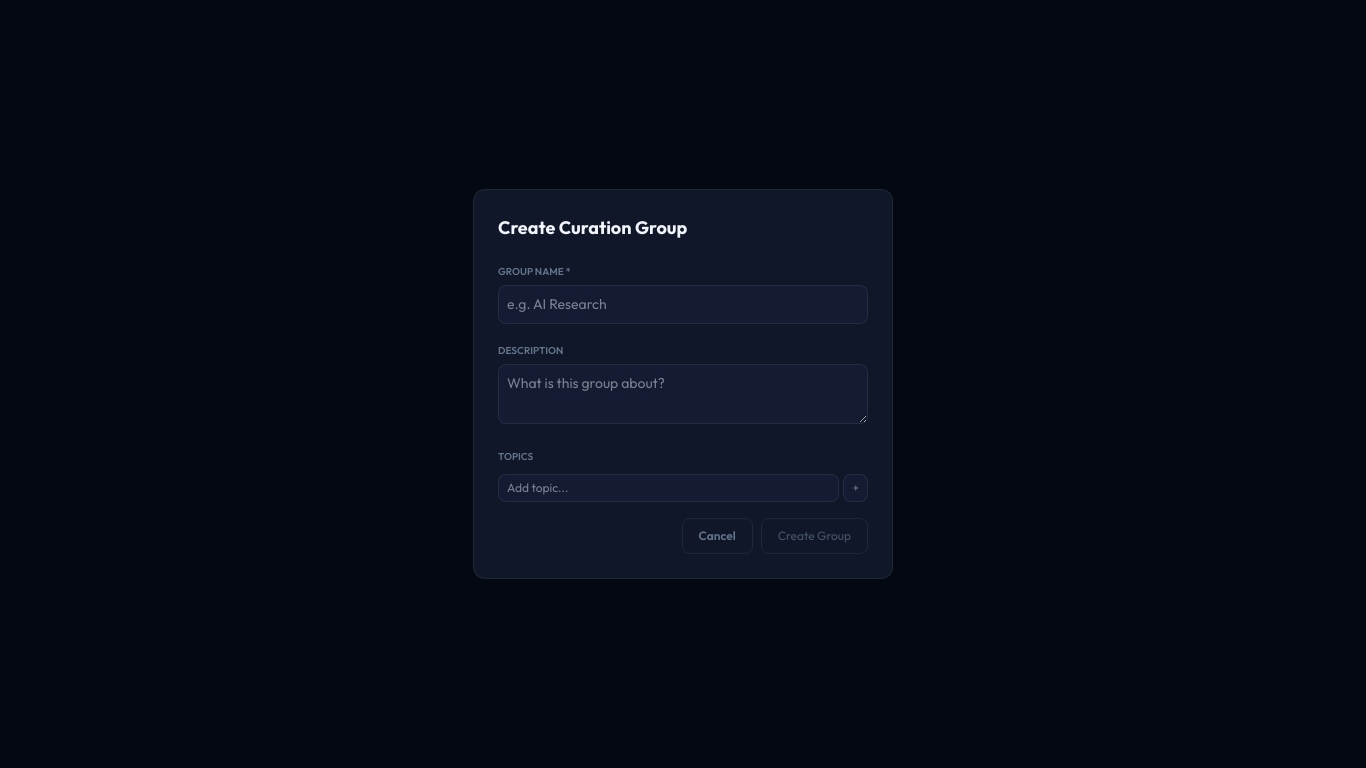
Test case: CreateGroupModal › normalizes topic to lowercase
In the field with placeholder "Add topic...": (669, 488) [498,474,840,502], type "AI"
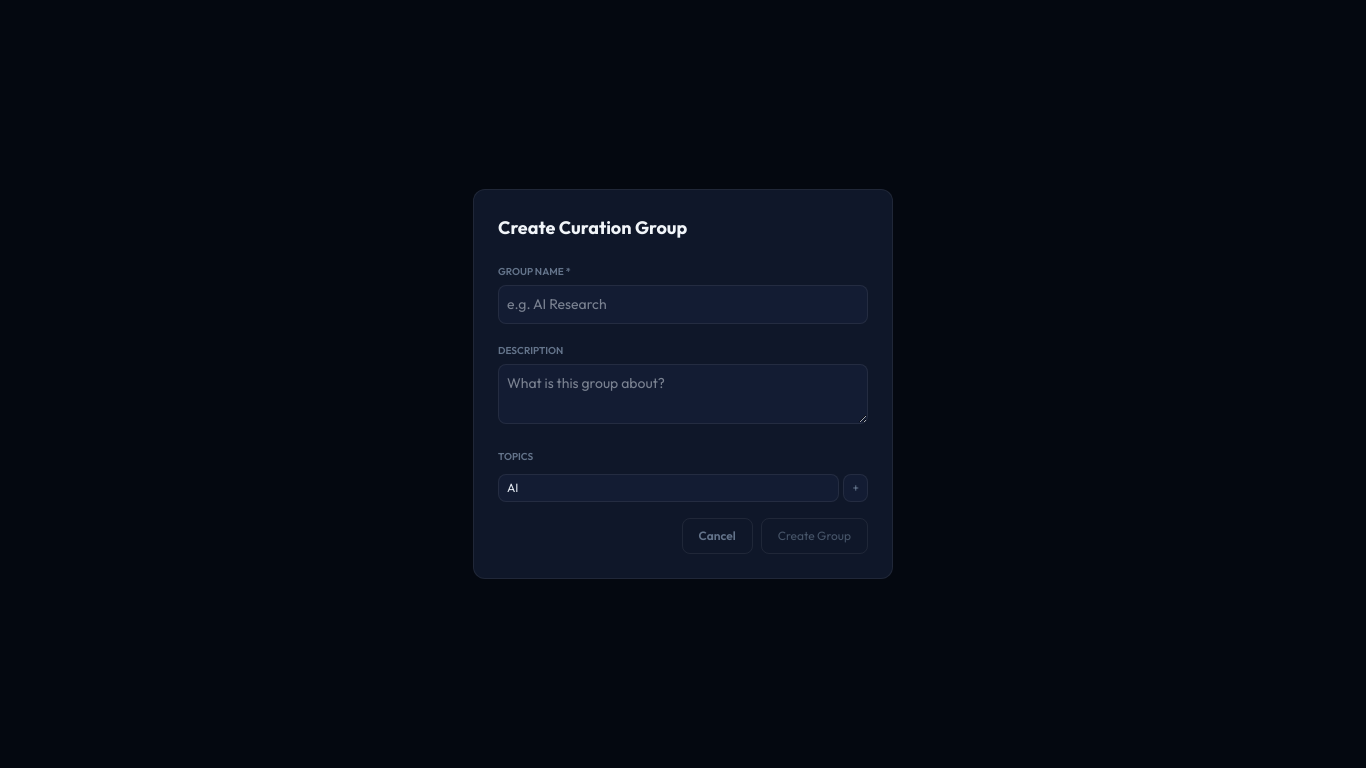
Click the button "+": (856, 488) [844,474,868,502]
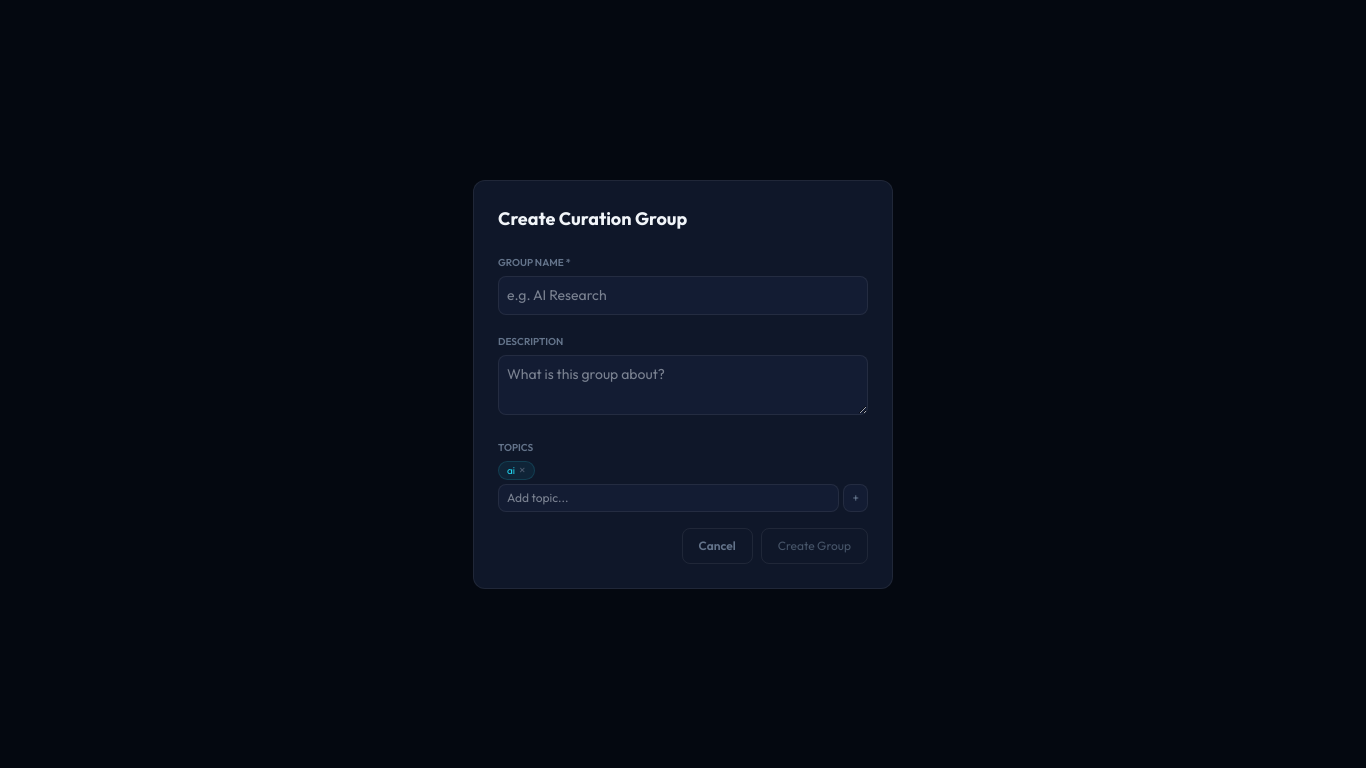
Result: the text "ai" is shown at [507,464,515,476]
